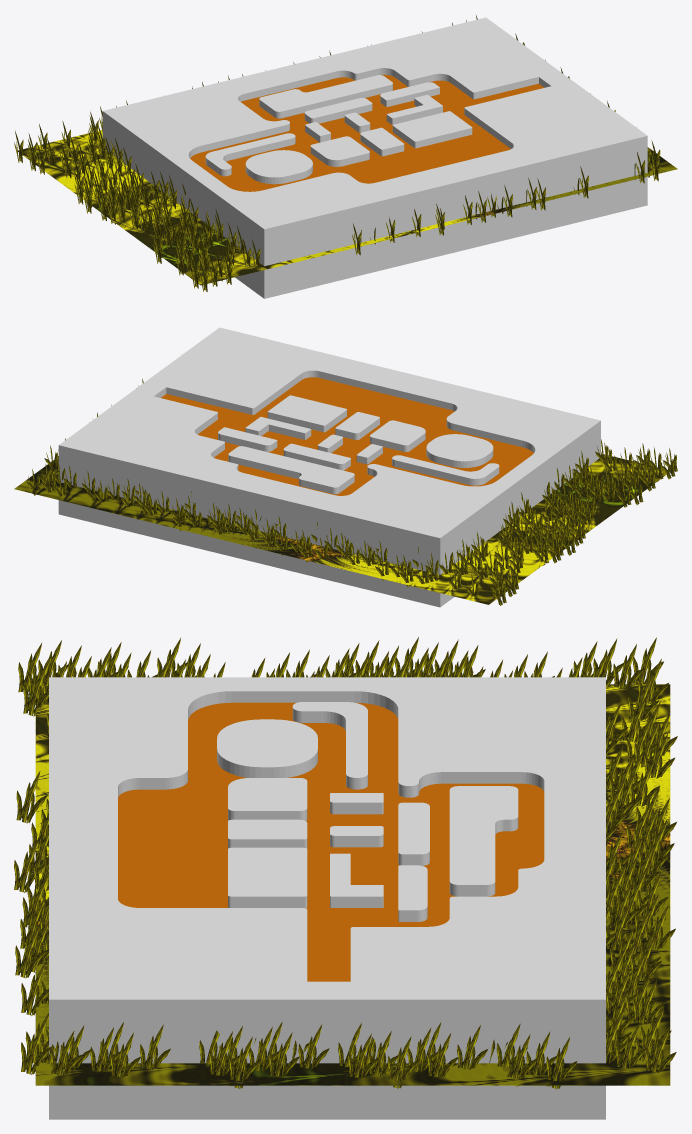
File: fungi2.fbx
3 renders of one model, top to bottom at view 1: azimuth 30°, elevation 25°; view 2: azimuth 150°, elevation 25°; view 3: azimuth 270°, elevation 25°, orthographic. The views are drawn at different scales.
Parts seen in each view (by area): view 1: Fungi, Cube, Plane; view 2: Fungi, Plane, Cube; view 3: Fungi, Cube, Plane.
Part boxes in pixels (left/top/right/bottom): Fungi: left=102, top=17, right=647, bottom=298; Cube: left=190, top=74, right=544, bottom=191; Plane: left=17, top=130, right=677, bottom=285; Fungi: left=58, top=327, right=600, bottom=607; Plane: left=14, top=454, right=670, bottom=604; Cube: left=161, top=377, right=533, bottom=495; Fungi: left=49, top=677, right=605, bottom=1119; Cube: left=118, top=702, right=544, bottom=981; Plane: left=35, top=684, right=670, bottom=1085.
Bounding box in the file's own units: 7.49 × 10.93 × 1.69.
